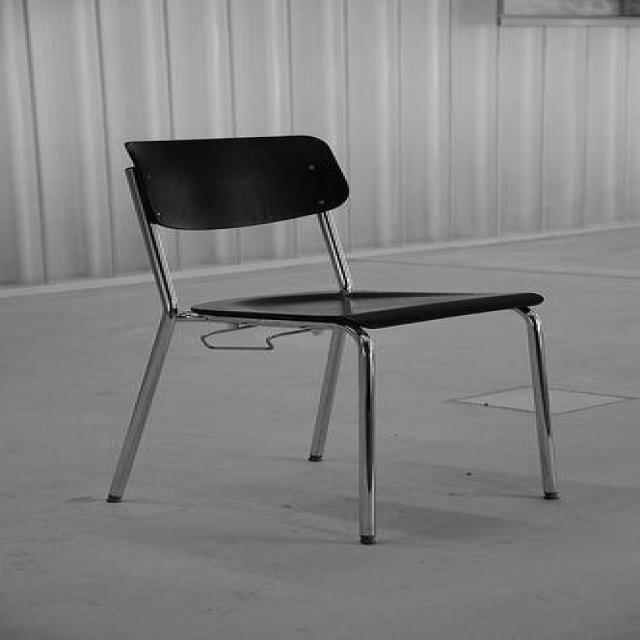chair: (102, 135, 571, 544)
